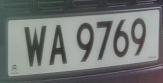6: (111, 15, 132, 60)
7: (94, 18, 115, 66)
9: (73, 19, 98, 68), (130, 14, 150, 60)
A: (47, 19, 70, 72)
W: (23, 21, 46, 71)
